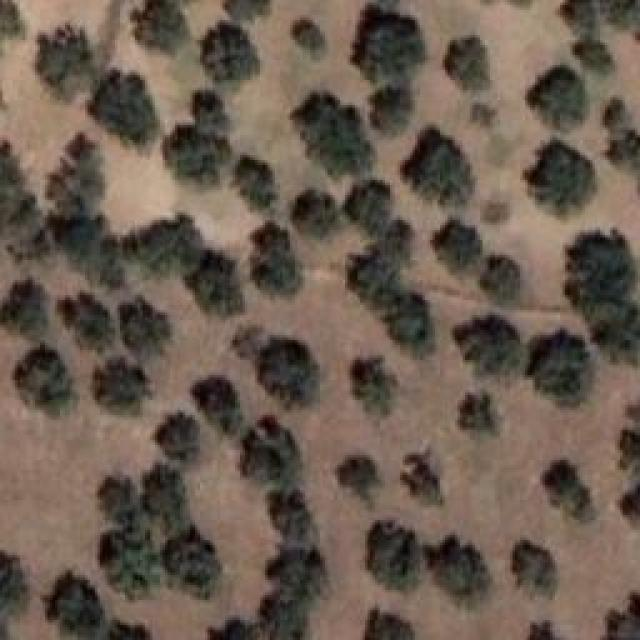Tree: (293, 93, 373, 176), (352, 5, 431, 81), (0, 140, 50, 260), (523, 140, 597, 217), (403, 128, 476, 206), (43, 132, 108, 215), (90, 70, 160, 146), (48, 215, 121, 287), (565, 230, 640, 300), (528, 330, 594, 407), (100, 520, 164, 597), (425, 535, 492, 608), (35, 23, 95, 100), (13, 343, 73, 416), (135, 210, 198, 279), (258, 338, 318, 410), (163, 525, 222, 598), (455, 315, 524, 376), (243, 415, 299, 490), (163, 125, 232, 183), (185, 250, 245, 316), (45, 572, 103, 640), (250, 223, 303, 296), (528, 65, 589, 128), (348, 243, 405, 309), (200, 23, 260, 84), (143, 463, 192, 536), (368, 522, 419, 592), (57, 292, 115, 352), (120, 297, 173, 362), (383, 292, 434, 357), (95, 358, 150, 415), (130, 0, 189, 53), (270, 543, 328, 595), (0, 278, 48, 339), (343, 180, 392, 238), (592, 300, 640, 359), (195, 375, 242, 435), (259, 587, 312, 640), (543, 462, 589, 522), (433, 220, 483, 273), (270, 494, 319, 548), (353, 357, 397, 417), (370, 83, 418, 137), (235, 155, 279, 210), (292, 190, 340, 240), (448, 36, 492, 90), (155, 412, 200, 462), (403, 450, 444, 504), (513, 540, 553, 595), (480, 255, 521, 306), (98, 475, 141, 523), (338, 455, 381, 500), (605, 127, 640, 181), (0, 552, 28, 619), (602, 593, 640, 640), (558, 0, 598, 41), (190, 85, 229, 126), (365, 610, 416, 640), (208, 613, 259, 640), (460, 392, 494, 432), (600, 0, 640, 34), (295, 18, 328, 59), (573, 44, 613, 74), (102, 617, 147, 640), (225, 0, 268, 21), (0, 0, 22, 39), (603, 98, 630, 128), (620, 485, 640, 525), (528, 617, 558, 639)
